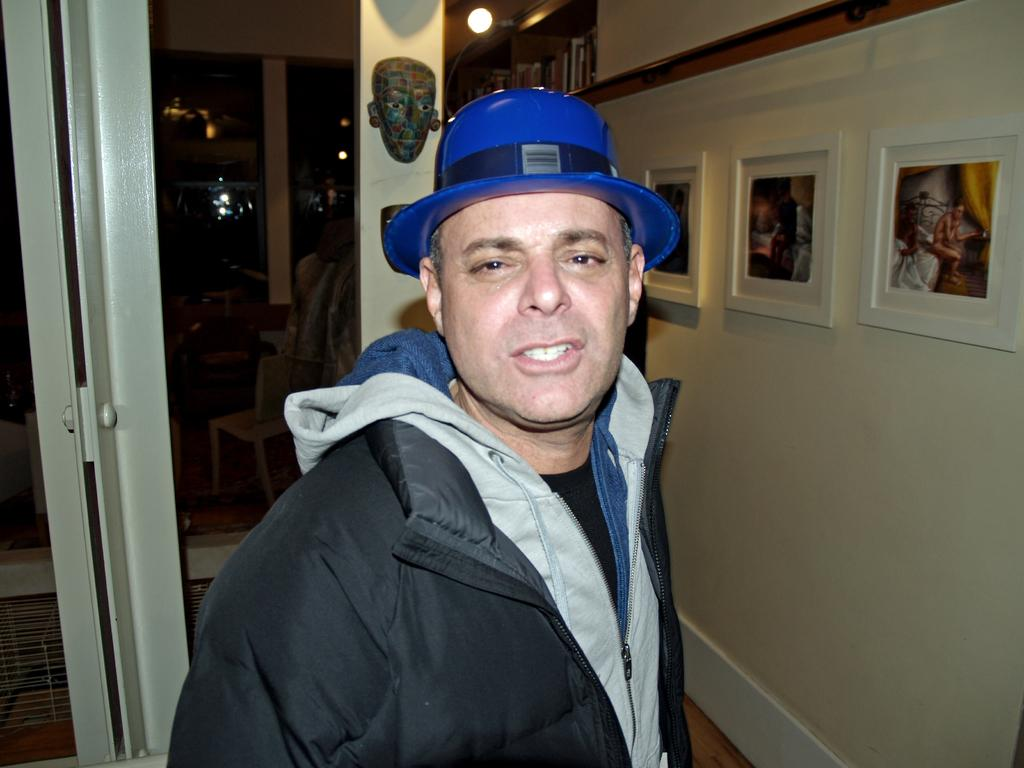Hat: (382, 89, 682, 281)
